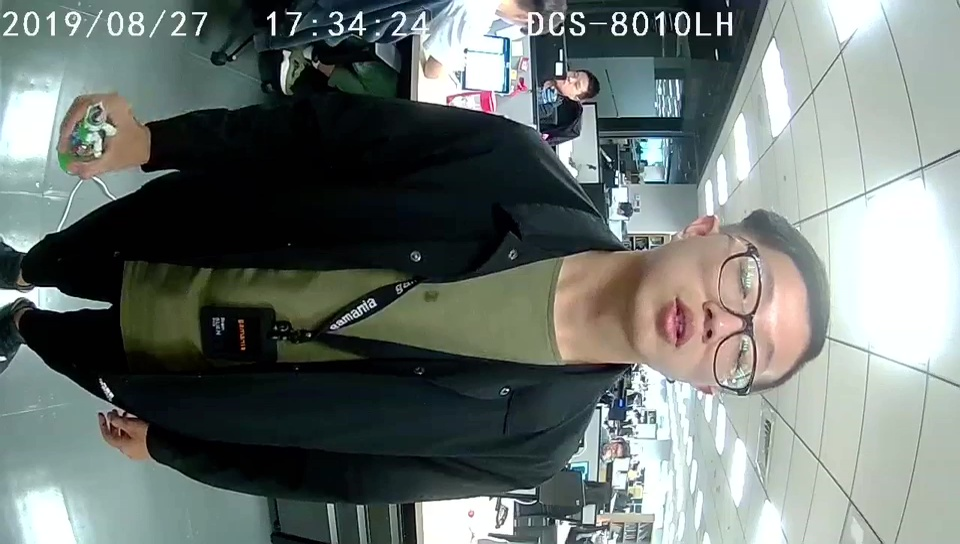buzz: (58, 99, 118, 170)
